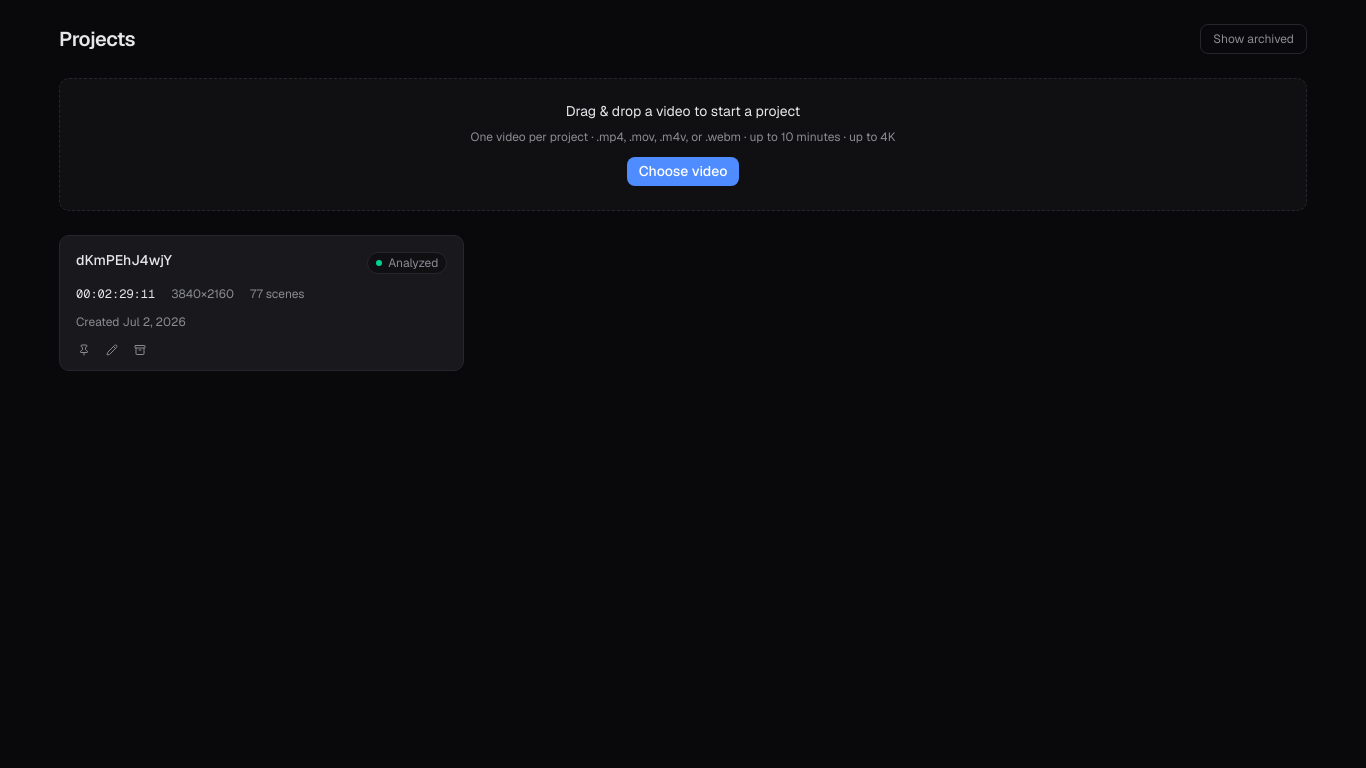
Test: ProjectsScreen management › archives a project after confirmation, removing it from the active list
Check: the link "dKmPEhJ4wjY" is shown, box [60,236,463,338]
Click the button named "Archive project" at (140, 350), box [128,338,152,362]
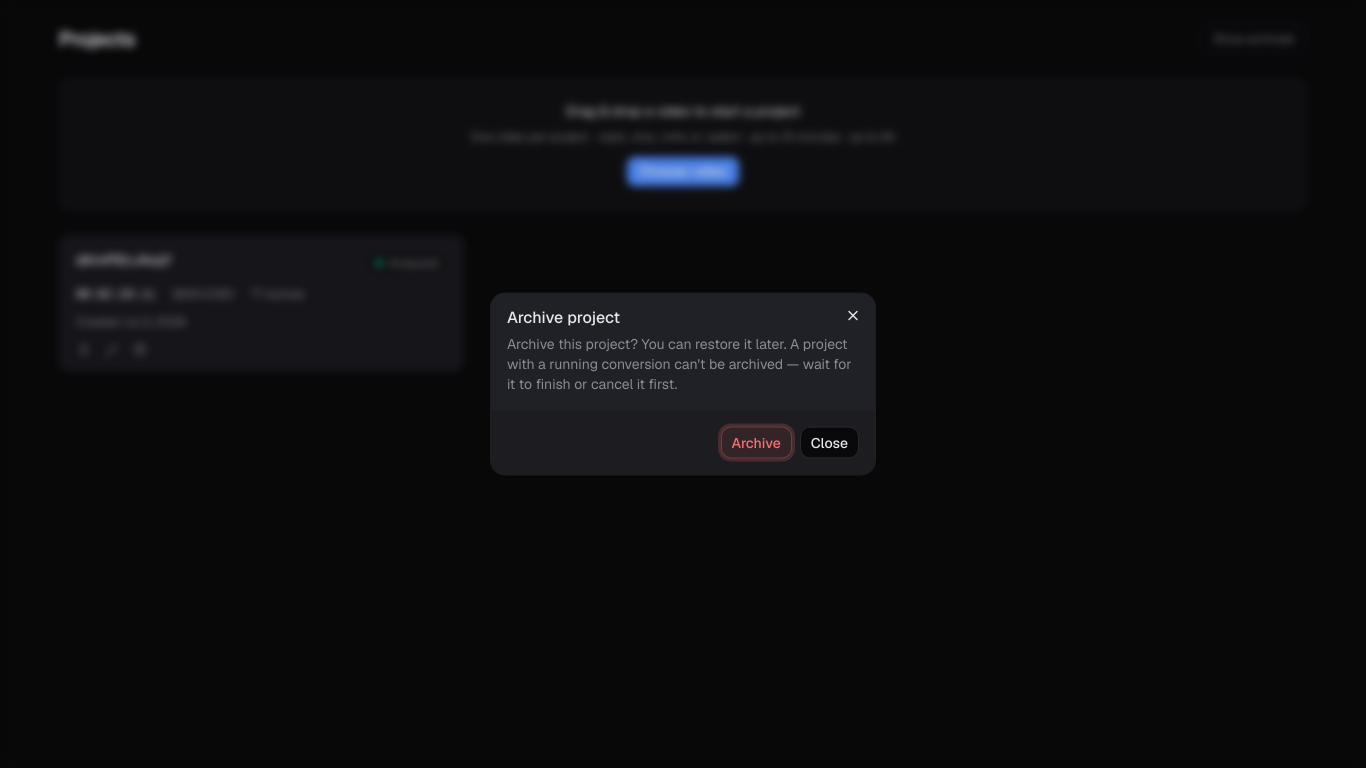
Check: the text "A project with a running conversion" is shown, box [507,334,852,392]
Click the button "Archive" at (756, 442), box [720,426,792,458]
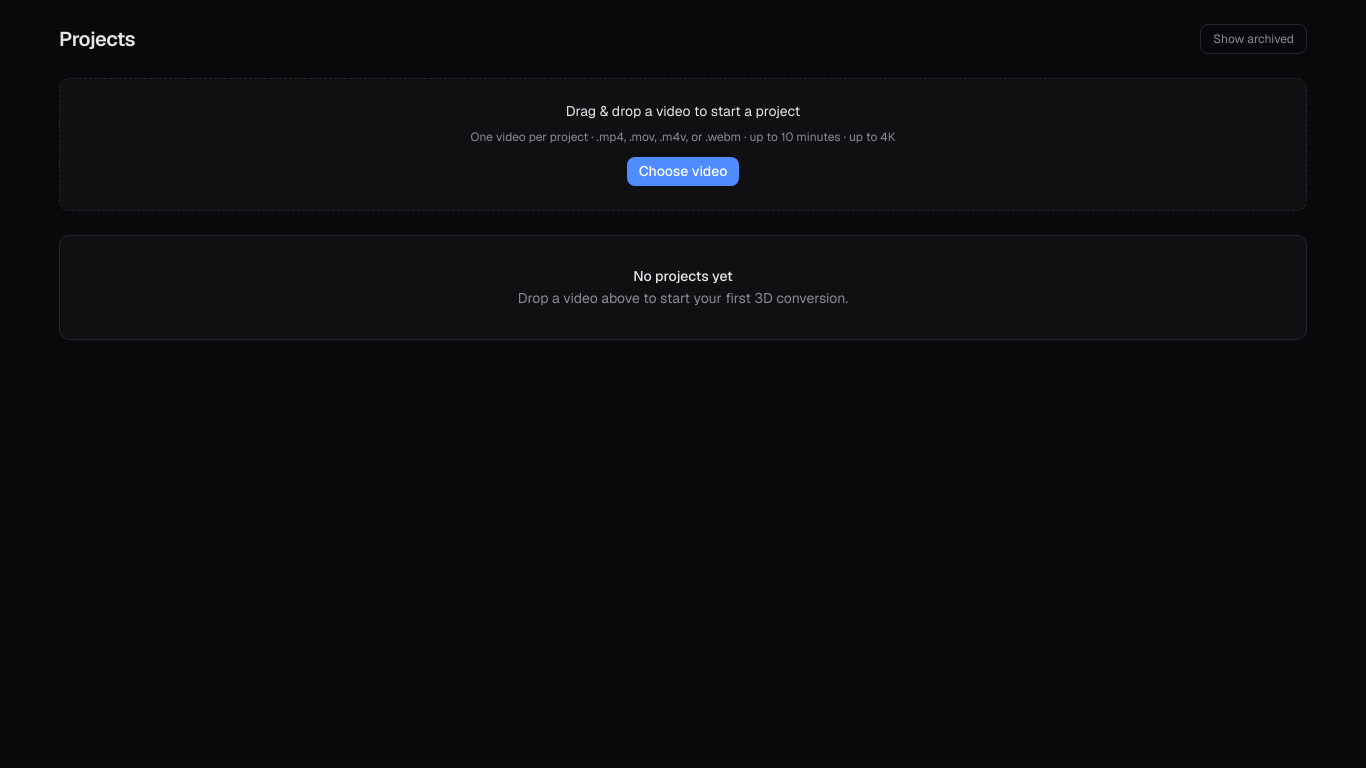
Check: the text "No projects yet" is shown, box [633,267,733,285]
Check: the link "dKmPEhJ4wjY" is gone
